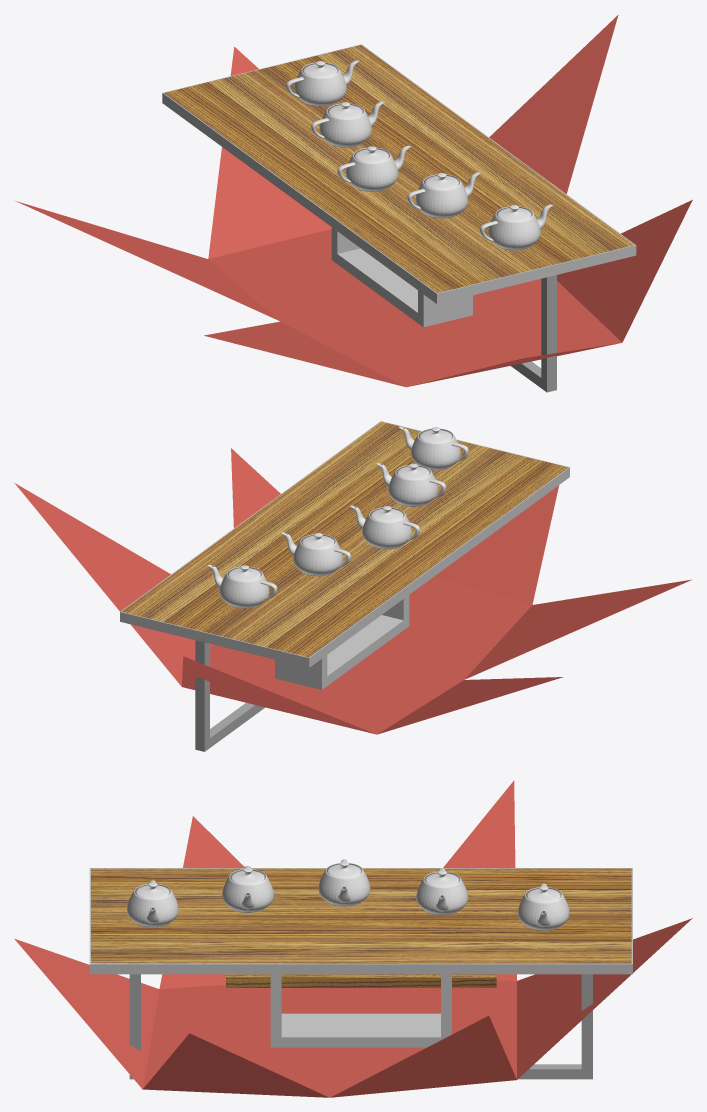
The picture shows the model from 3 angles, top to bottom: view 1: azimuth 30°, elevation 25°; view 2: azimuth 150°, elevation 25°; view 3: azimuth 270°, elevation 25°; orthographic projection. The views are drawn at different scales.
Parts seen in each view (by area): view 1: g_t_Object, g_t_Rectangle0, g_t_Rectangle2, g_t_Line040, g_t_Line037_Li_Line037, g_nt_teapot, g_nt_teapot_003, g_nt_teapot_001, g_nt_teapot_004, g_nt_teapot_002; view 2: g_t_Object, g_t_Rectangle0, g_t_Rectangle2, g_t_Line040, g_t_Line037_Li_Line037, g_nt_teapot_003, g_nt_teapot_001, g_nt_teapot_002, g_nt_teapot, g_nt_teapot_004; view 3: g_t_Object, g_t_Rectangle0, g_t_Rectangle2, g_t_Line040, g_t_Rectangle1, g_t_Line037_Li_Line037, g_nt_teapot_004, g_nt_teapot_003, g_nt_teapot_002, g_nt_teapot_001, g_nt_teapot.
Part boxes in pixels (x1,y1,x2,y2): g_t_Object: (16, 15, 692, 387); g_t_Rectangle0: (164, 45, 633, 292); g_t_Rectangle2: (162, 44, 636, 303); g_t_Line040: (331, 227, 472, 327); g_t_Line037_Li_Line037: (511, 275, 556, 392); g_nt_teapot: (286, 60, 359, 106); g_nt_teapot_003: (407, 172, 480, 218); g_nt_teapot_001: (311, 101, 384, 147); g_nt_teapot_004: (480, 204, 553, 250); g_nt_teapot_002: (337, 145, 410, 191); g_t_Object: (14, 448, 691, 734); g_t_Rectangle0: (121, 421, 568, 657); g_t_Rectangle2: (120, 421, 569, 667); g_t_Line040: (275, 595, 409, 689); g_t_Line037_Li_Line037: (195, 640, 264, 751); g_nt_teapot_003: (376, 463, 446, 506); g_nt_teapot_001: (281, 532, 350, 576); g_nt_teapot_002: (350, 505, 419, 549); g_nt_teapot: (207, 565, 277, 608); g_nt_teapot_004: (399, 426, 468, 470); g_t_Object: (14, 780, 692, 1097); g_t_Rectangle0: (91, 868, 631, 963); g_t_Rectangle2: (89, 868, 632, 974); g_t_Line040: (270, 974, 451, 1047); g_t_Rectangle1: (226, 974, 496, 987); g_t_Line037_Li_Line037: (129, 974, 592, 1079); g_nt_teapot_004: (127, 880, 178, 927); g_nt_teapot_003: (222, 865, 273, 912); g_nt_teapot_002: (318, 859, 370, 906); g_nt_teapot_001: (416, 868, 467, 915); g_nt_teapot: (518, 883, 569, 930).
Size of what is drawn, in the model's own units: 7.62 by 7.65 by 2.28.
